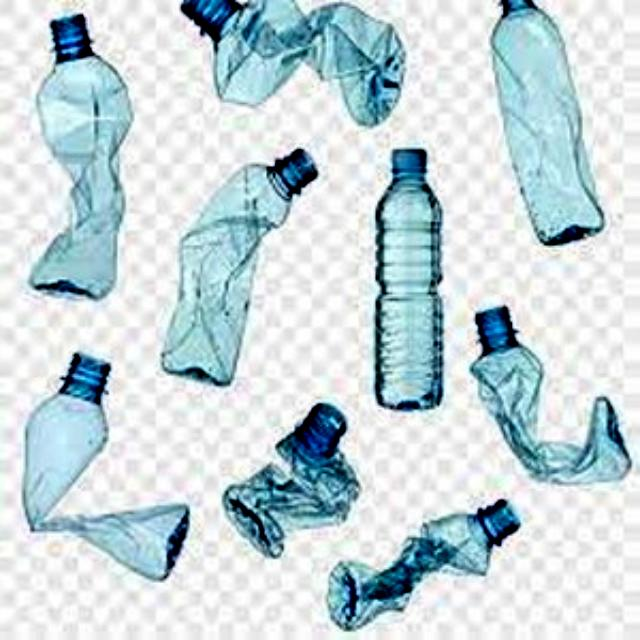Plastic: (162, 144, 320, 388), (19, 354, 183, 584), (177, 1, 417, 134), (480, 0, 603, 244), (31, 18, 135, 302), (472, 304, 634, 486), (328, 496, 520, 628), (222, 404, 358, 562), (368, 138, 446, 412)
